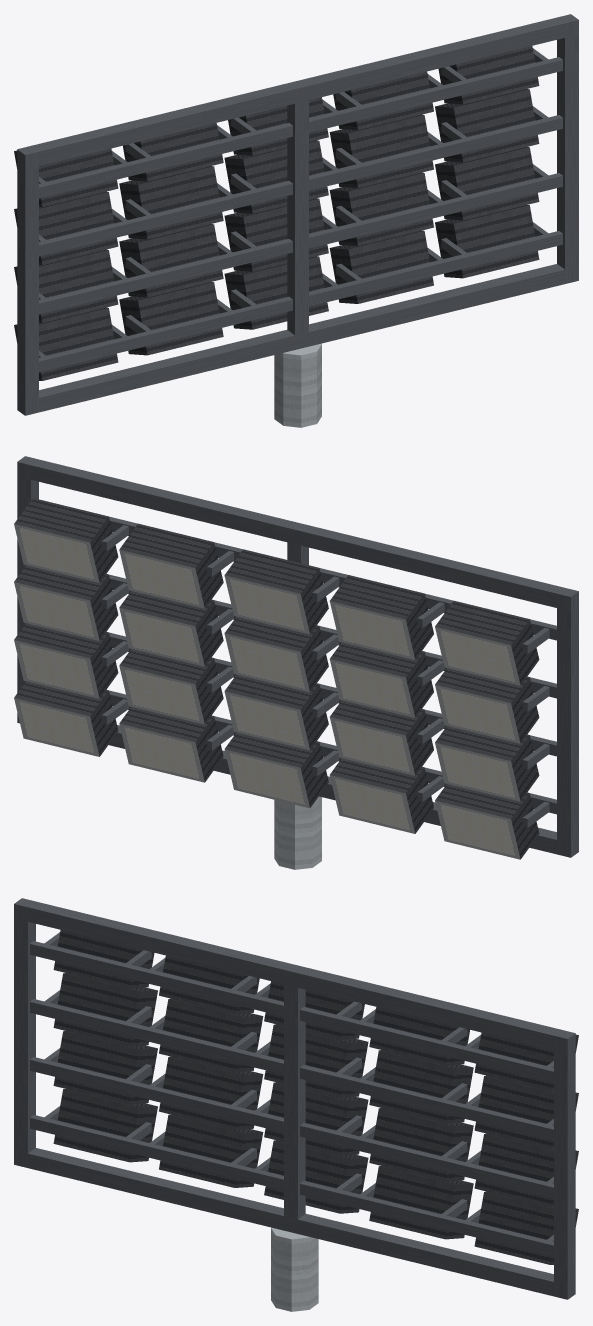
The model's file is head_large_on.obj.
3 views of the same model, one above another, from view 1: azimuth 30°, elevation 25°; view 2: azimuth 150°, elevation 25°; view 3: azimuth 330°, elevation 25° (orthographic).
Parts seen in each view (by area): view 1: head_large_on; view 2: head_large_on; view 3: head_large_on.
Boxes of the visible parts, x1,y1,x2,y2 form: head_large_on: (14, 14, 578, 427); head_large_on: (14, 456, 578, 869); head_large_on: (14, 898, 578, 1311).
Bounding box in the file's own units: 5 × 2.88 × 0.7292.
